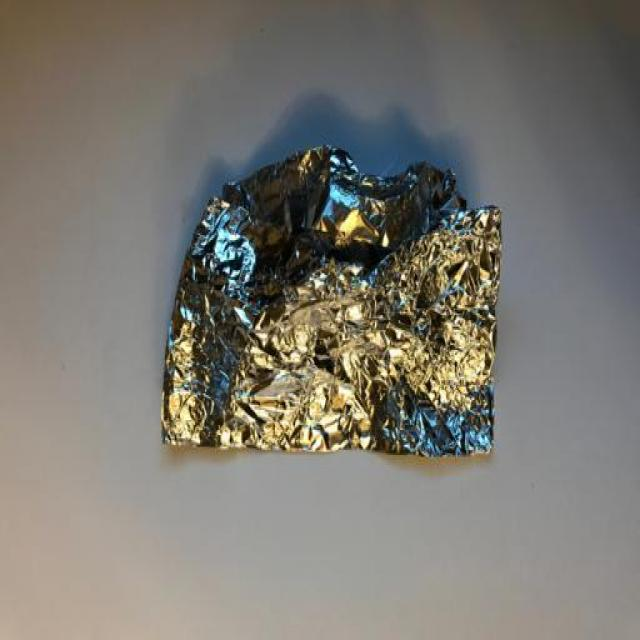plastic_bag: (129, 119, 569, 493)
